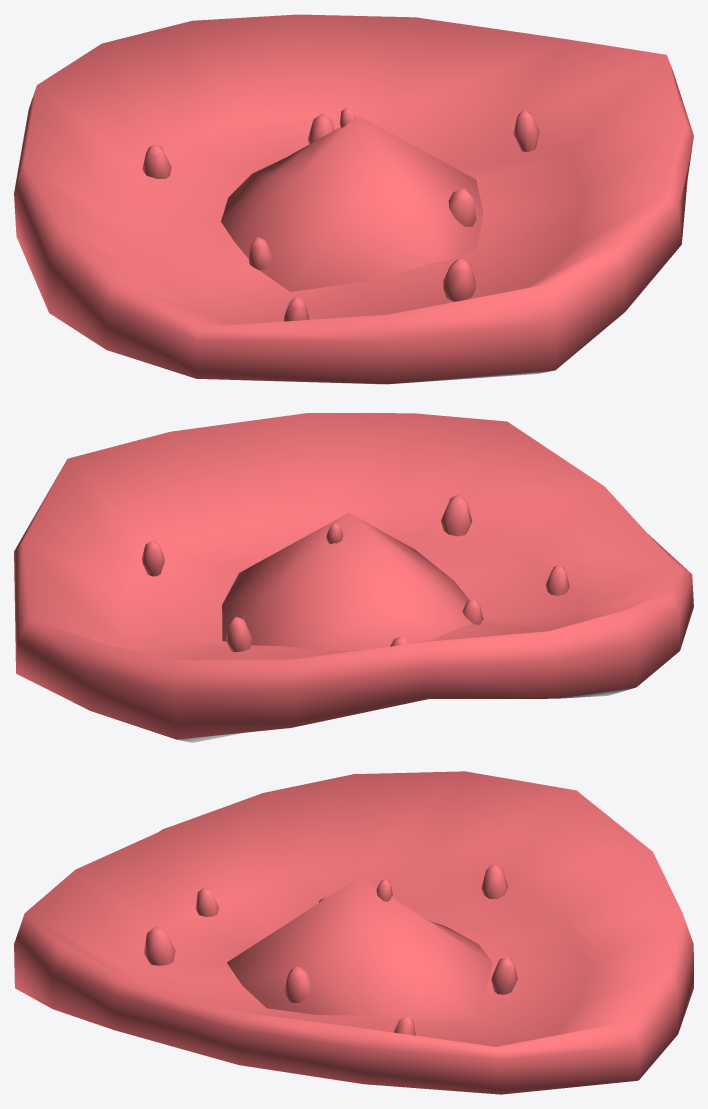
File: WartShroom.fbx
3 views of the same model, one above another, from view 1: azimuth 30°, elevation 25°; view 2: azimuth 150°, elevation 25°; view 3: azimuth 270°, elevation 25° (orthographic). The views are drawn at different scales.
Parts seen in each view (by area): view 1: Wartshroom_Item_LOD0, Wartshroom_Base_LOD0; view 2: Wartshroom_Item_LOD0, Wartshroom_Base_LOD0; view 3: Wartshroom_Item_LOD0, Wartshroom_Base_LOD0.
Part boxes in pixels (x1,y1,x2,y2): Wartshroom_Item_LOD0: (14,14,693,384); Wartshroom_Base_LOD0: (221,107,483,291); Wartshroom_Item_LOD0: (14,413,693,742); Wartshroom_Base_LOD0: (222,512,484,651); Wartshroom_Item_LOD0: (14,771,693,1094); Wartshroom_Base_LOD0: (227,876,492,1020).
Size of what is drawn, in the model's own units: 0.8521 by 0.1791 by 0.8713.
